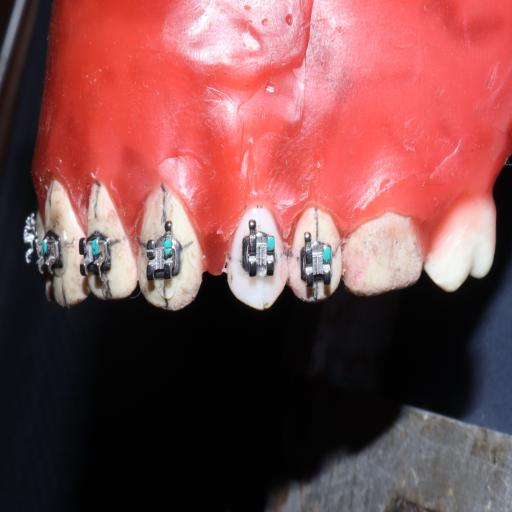correct_brace: (224, 196, 290, 320)
incorrect_brace: (238, 218, 279, 285)
